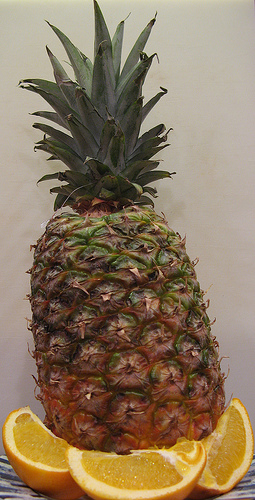pineapple: (16, 0, 228, 451)
